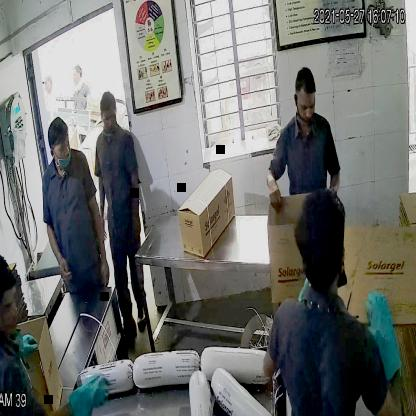no_goggles: (291, 91, 320, 119), (48, 134, 72, 158)
